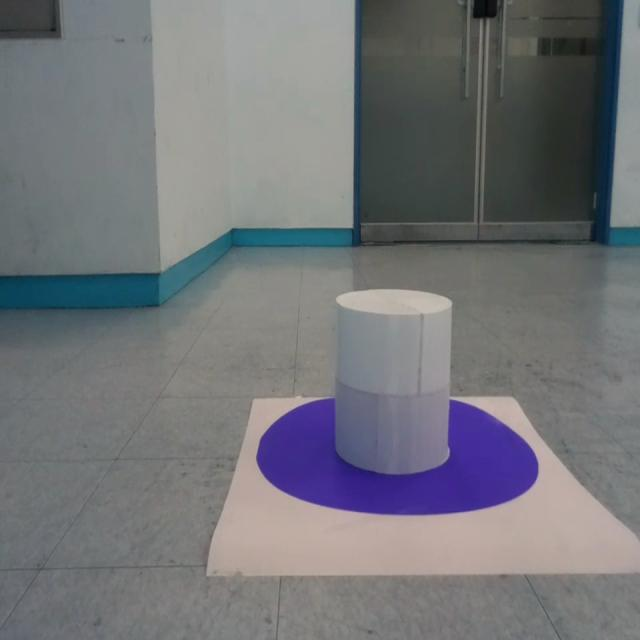cylinder: (334, 288, 454, 475)
